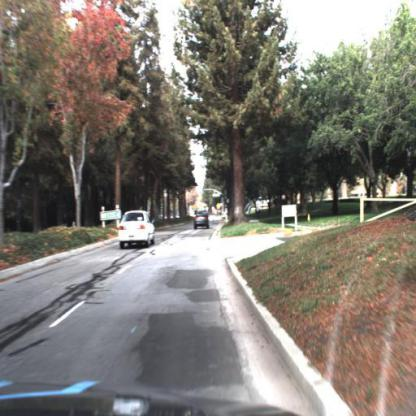car: (117, 205, 159, 251), (192, 209, 212, 230)
